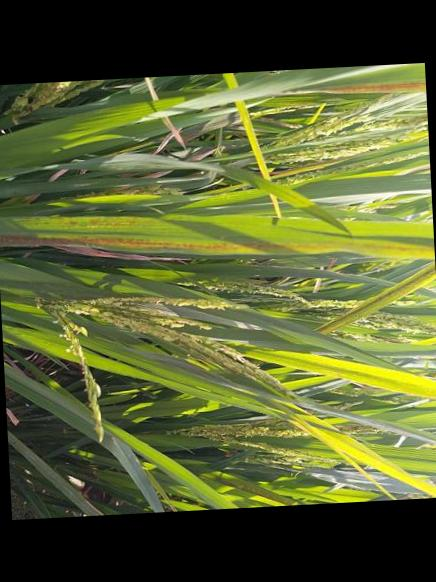Leaf Streak: (0, 233, 434, 256), (316, 260, 436, 331), (295, 75, 426, 95), (216, 477, 303, 506), (14, 214, 156, 226)
